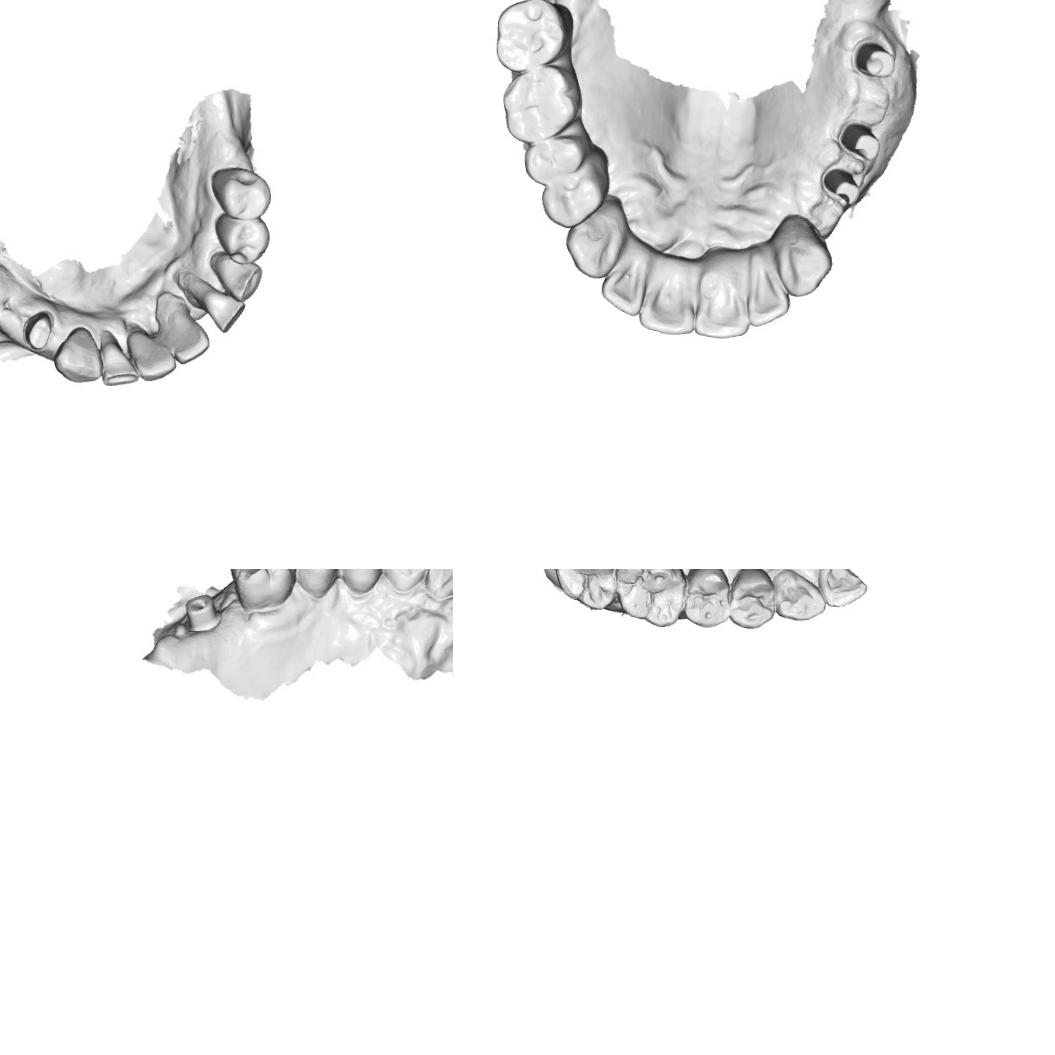abutment: (848, 37, 898, 80), (837, 118, 883, 163), (819, 164, 864, 208)
canine: (562, 200, 628, 282), (771, 227, 836, 300), (51, 324, 104, 384), (206, 249, 264, 303), (770, 569, 827, 623), (380, 569, 434, 593)
crown: (20, 308, 56, 352)
implant: (184, 592, 222, 634)
incisor: (691, 270, 752, 341), (638, 264, 696, 337), (154, 295, 212, 365), (598, 252, 649, 318), (744, 266, 792, 328), (125, 327, 179, 382), (98, 328, 142, 388), (816, 569, 868, 608), (205, 292, 246, 334), (423, 569, 453, 602)
molar: (500, 62, 586, 146), (493, 0, 566, 74), (613, 569, 688, 628), (550, 569, 623, 611), (226, 569, 298, 611)
premolar: (538, 160, 611, 231), (521, 133, 588, 188), (209, 166, 273, 221), (212, 213, 271, 265), (681, 569, 732, 629), (727, 569, 776, 630), (291, 569, 339, 598), (333, 569, 385, 595)
